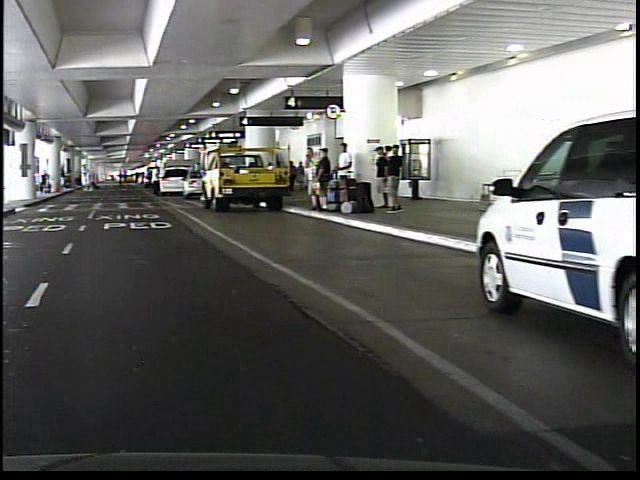person: (382, 144, 400, 217), (298, 145, 317, 208), (77, 162, 92, 196), (146, 165, 156, 196)
